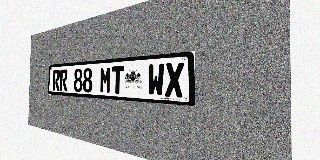8: (83, 68, 93, 93), (74, 68, 83, 92)
M: (100, 67, 111, 94)
R: (60, 69, 68, 91), (52, 70, 60, 91)
T: (111, 66, 124, 94)
W: (147, 63, 164, 97)
X: (165, 62, 184, 98)
